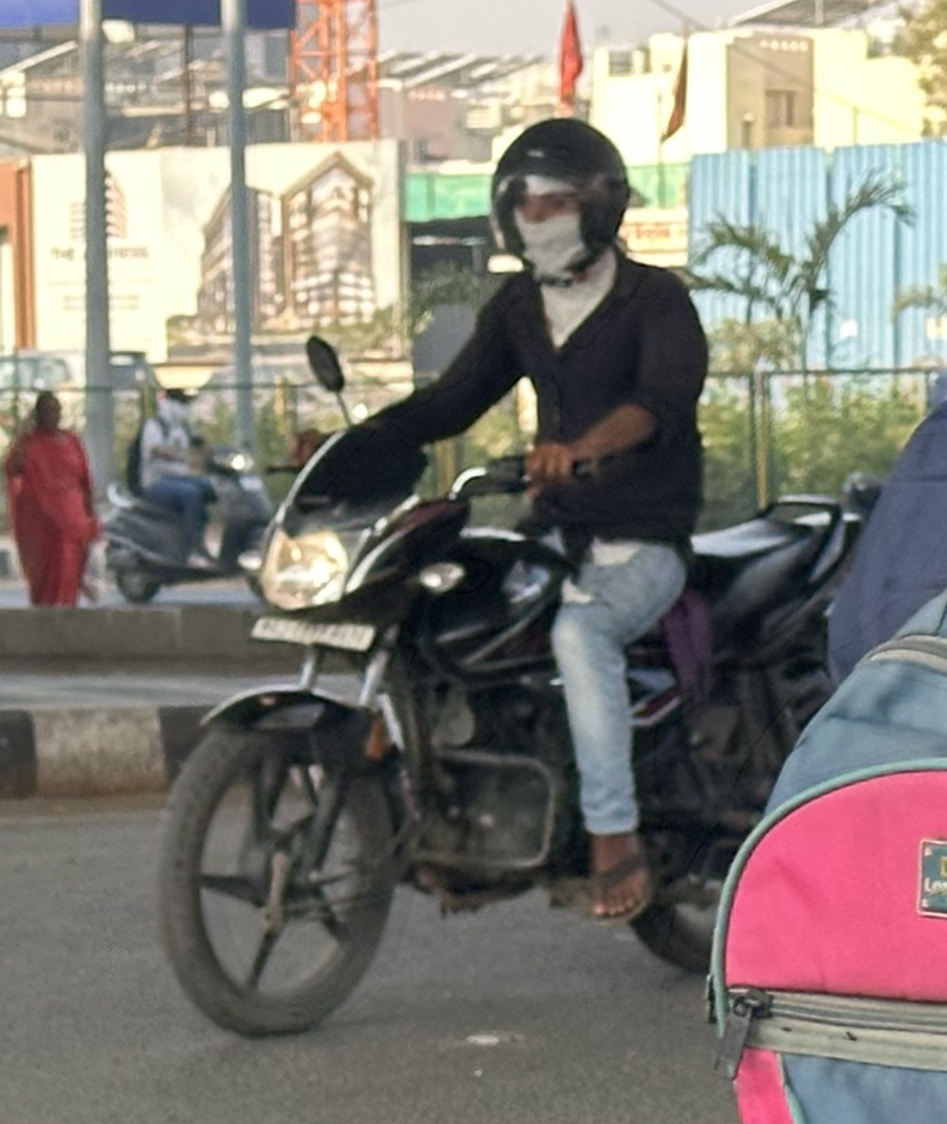BikeWithRider: (133, 101, 910, 1051)
Helmet: (470, 104, 648, 291)
